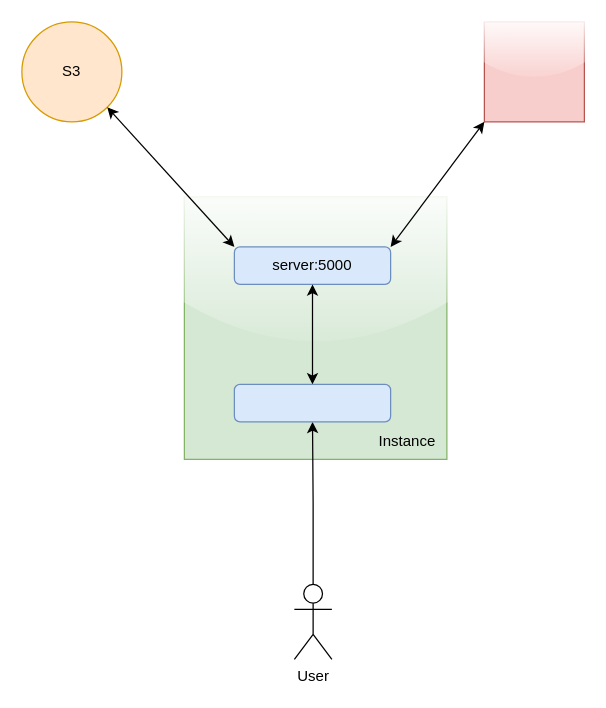
Image size: 606x708. Some labels were removed from this diagram. The centre of each missing label's shape, as x and y in pixels:
"client:8080" goes at point 312,402.
"Redis" goes at point 533,71.
